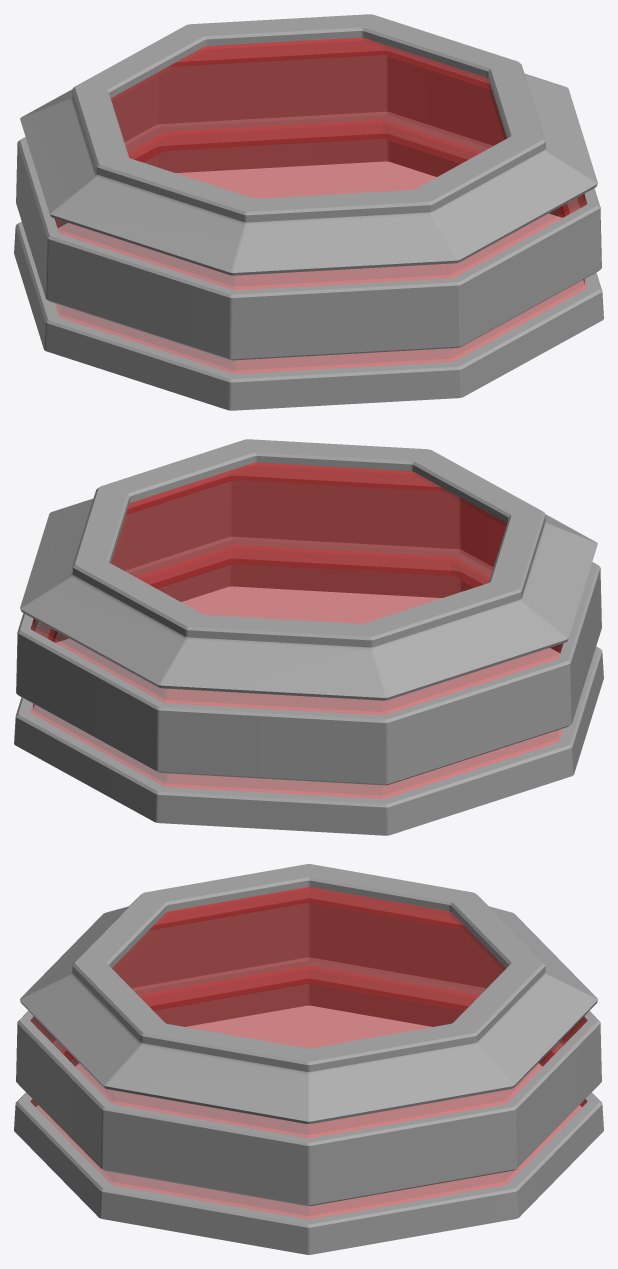
3 views of the same model, one above another, from view 1: azimuth 30°, elevation 25°; view 2: azimuth 150°, elevation 25°; view 3: azimuth 270°, elevation 25° (orthographic). The views are drawn at different scales.
Visible parts, largest first — view 1: pCylinder1; view 2: pCylinder1; view 3: pCylinder1.
Boxes of the visible parts, left/top/right/bottom form: pCylinder1: left=14, top=14, right=603, bottom=410; pCylinder1: left=14, top=439, right=603, bottom=835; pCylinder1: left=14, top=864, right=603, bottom=1254.
Size of the model in its own units: 2.49 by 0.7783 by 2.49.
